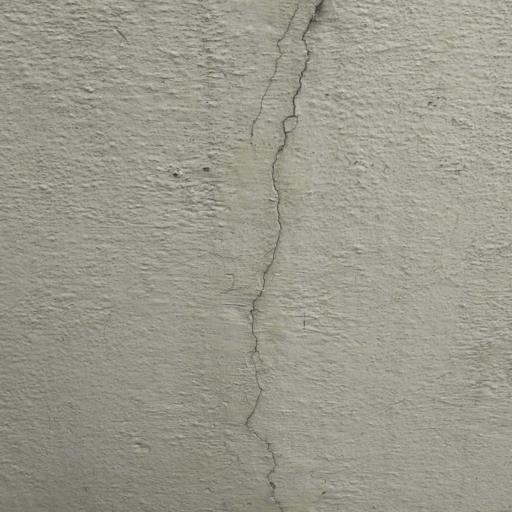minor_crack: (231, 0, 334, 512)
